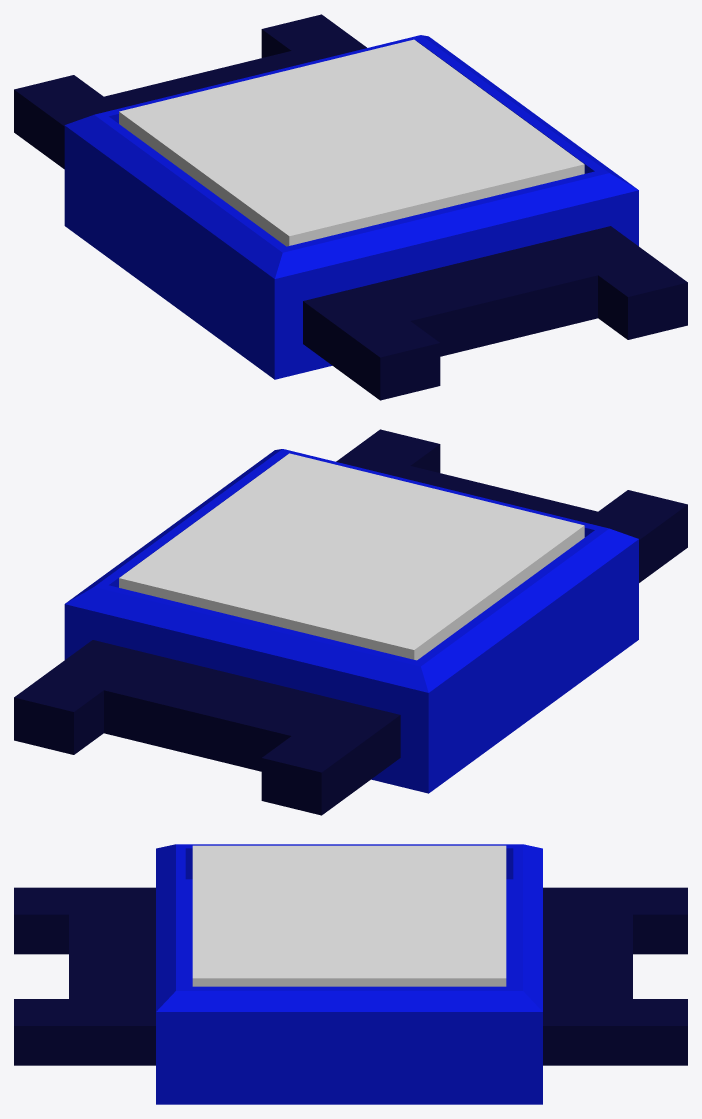
The model's file is watch.fbx.
3 views of the same model, one above another, from view 1: azimuth 30°, elevation 25°; view 2: azimuth 150°, elevation 25°; view 3: azimuth 270°, elevation 25° (orthographic). The views are drawn at different scales.
Visible parts, largest first — view 1: Face; view 2: Face; view 3: Face.
Part boxes in pixels (<box>): Face: <box>14,14,687,400</box>; Face: <box>14,429,687,815</box>; Face: <box>14,844,687,1104</box>.
Size of the model in its own units: 0.4 by 0.1265 by 0.6966.
